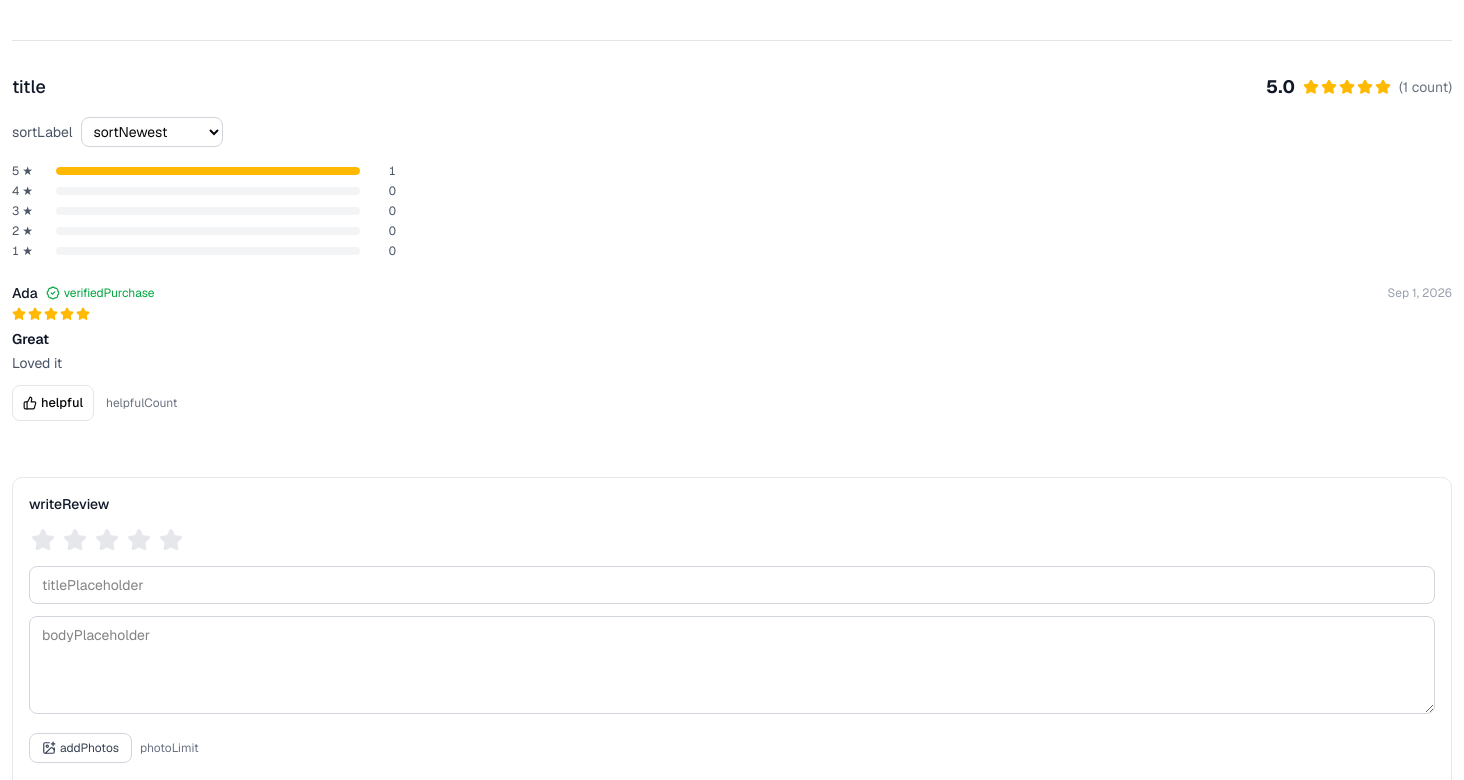
Test case: ProductReviews helpful vote (F-5) › records a vote and switches to the caller's own state
The image size is (1464, 780).
What coordinates should you click on to do the following:
click the button with test id "review-helpful-rev_1"
I would click on:
 (53, 403)
Its box is [12,385,94,421].
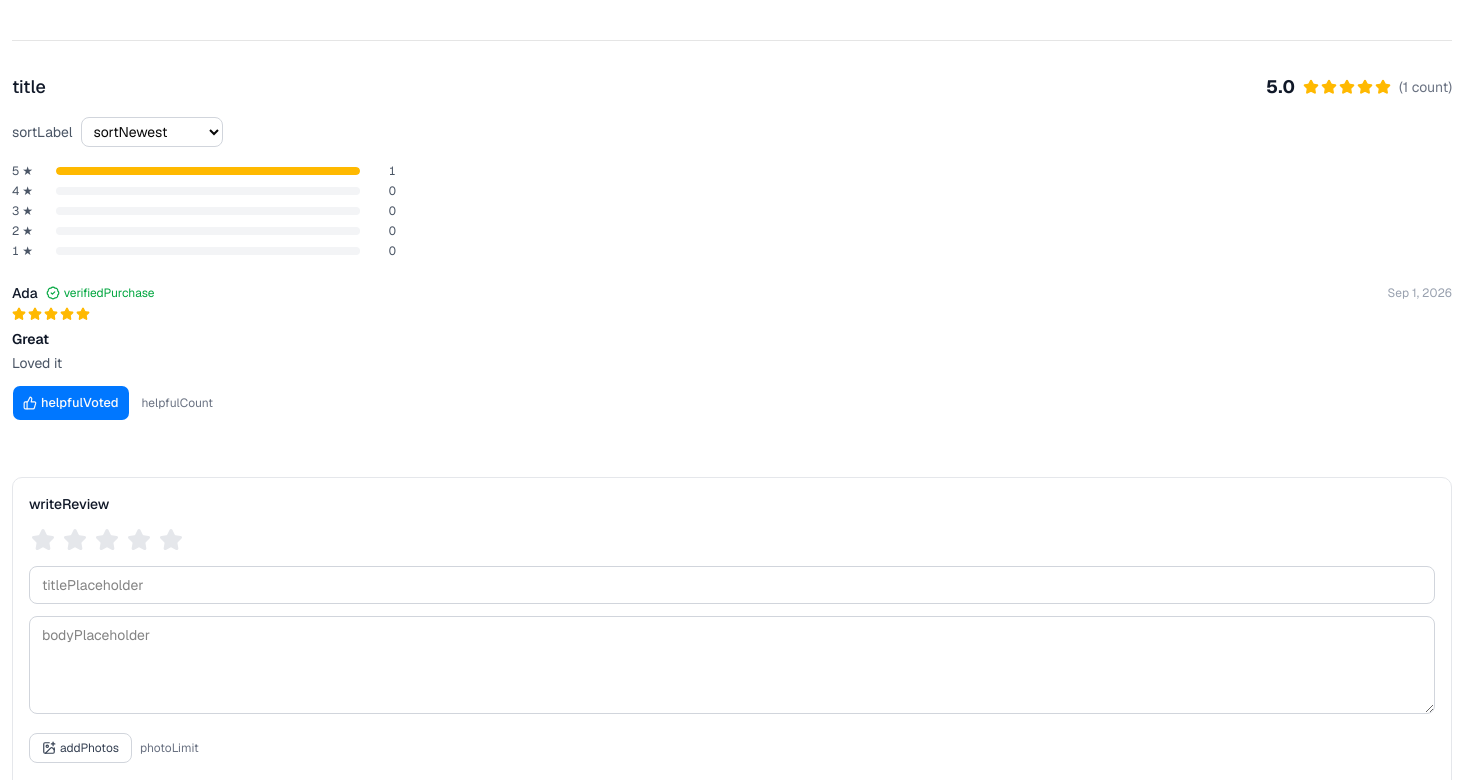
Expected: the button with test id "review-helpful-rev_1" reads "helpfulVoted", [12,385,130,421]
